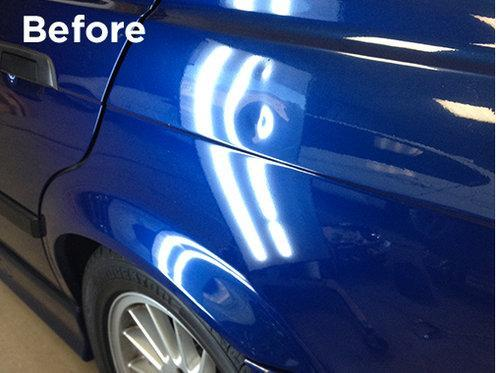dent: (218, 88, 293, 162)
